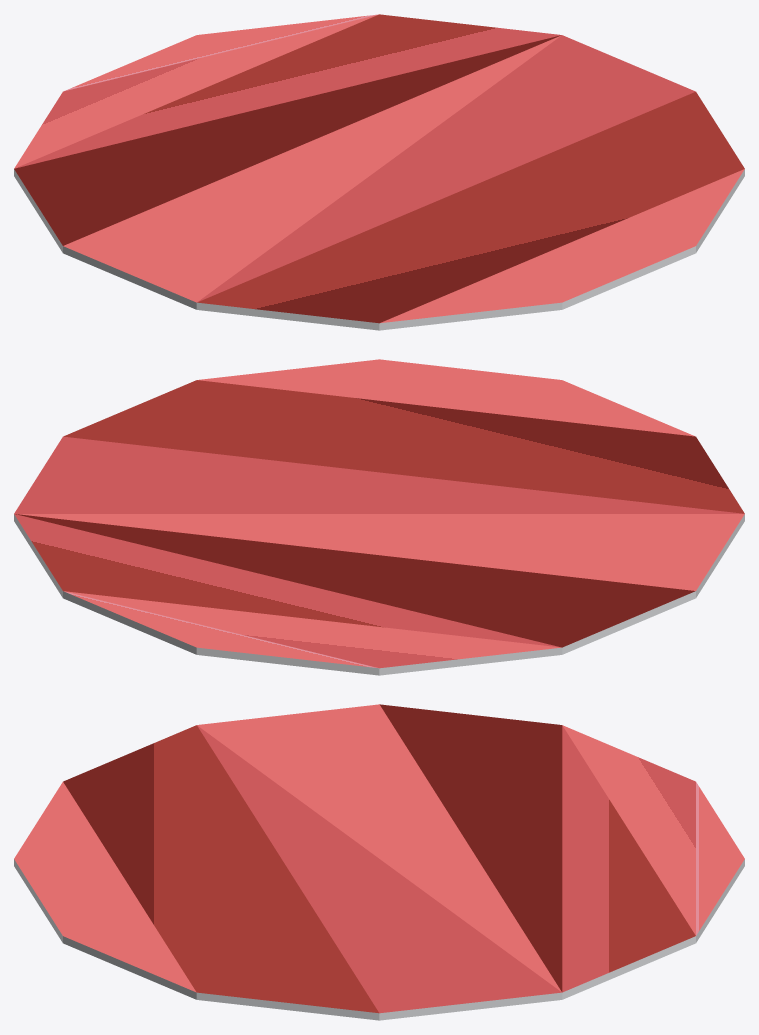
File: Accesories_Circle.011.glb
3 renders of one model, top to bottom at view 1: azimuth 30°, elevation 25°; view 2: azimuth 150°, elevation 25°; view 3: azimuth 270°, elevation 25°, orthographic.
Visible parts, largest first — view 1: Accesories_Circle.011; view 2: Accesories_Circle.011; view 3: Accesories_Circle.011.
Boxes of the visible parts, <box> form: Accesories_Circle.011: <box>14,14,744,330</box>; Accesories_Circle.011: <box>14,359,744,675</box>; Accesories_Circle.011: <box>14,704,744,1020</box>.
Bounding box in the file's own units: 2.73 × 0.0301 × 2.73.
Materials: 1 (1 with a texture image).
